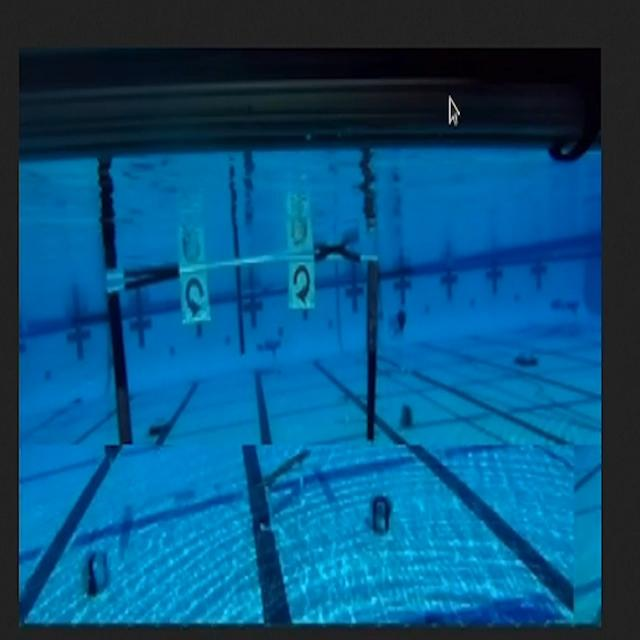Gate: (97, 258, 389, 448)
